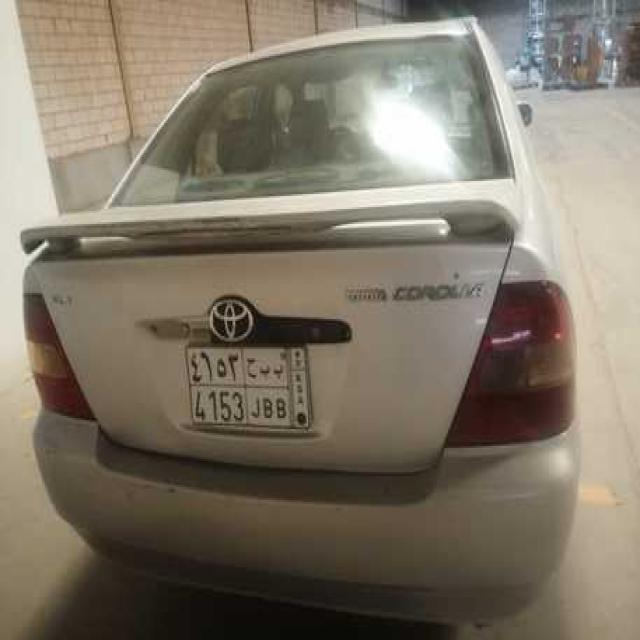license_plate: (184, 340, 316, 434)
